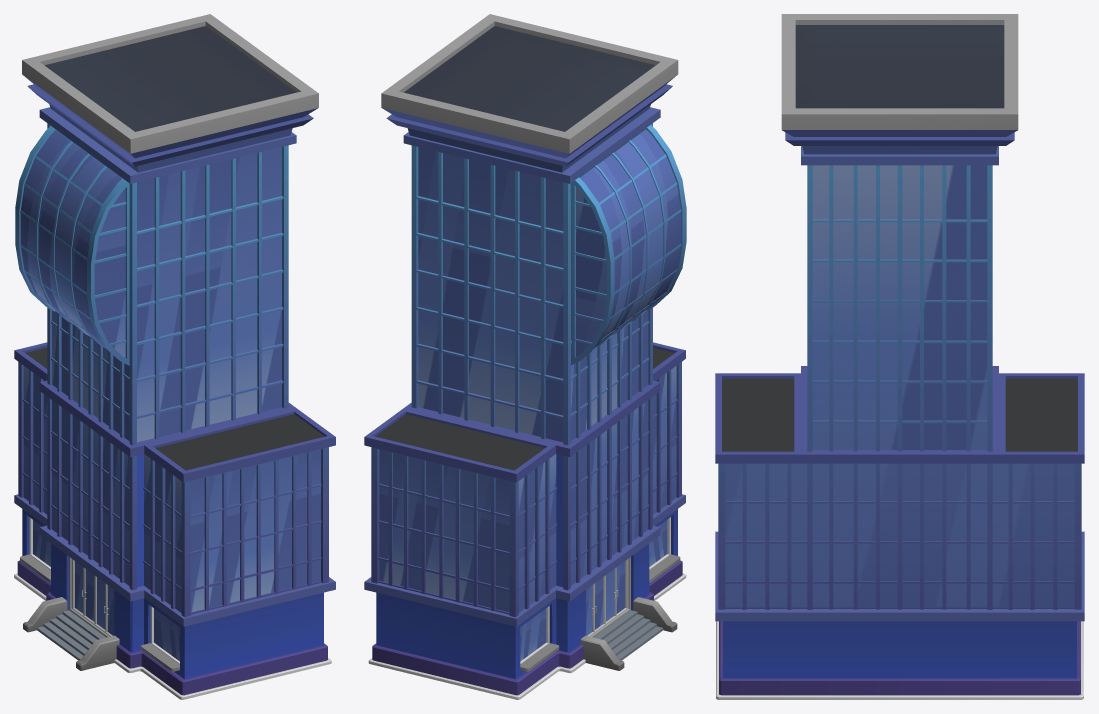
File: Building_15_J.fbx
The picture shows the model from 3 angles, left to right: view 1: azimuth 30°, elevation 25°; view 2: azimuth 150°, elevation 25°; view 3: azimuth 270°, elevation 25°; orthographic projection. The views are drawn at different scales.
Visible parts, largest first — view 1: Building_15_J; view 2: Building_15_J; view 3: Building_15_J.
Boxes of the visible parts, x1,y1,x2,y2 form: Building_15_J: (14,14,335,699); Building_15_J: (364,14,686,699); Building_15_J: (715,14,1084,699).
Bounding box in the file's own units: 860 × 2100 × 1183.
